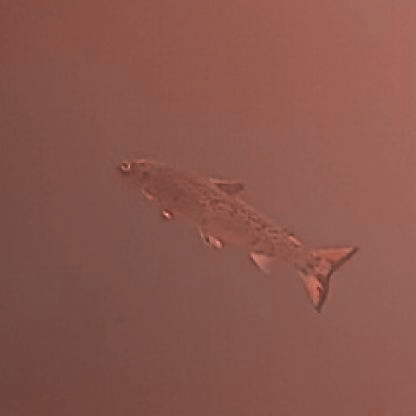salmon: (107, 149, 362, 316)
